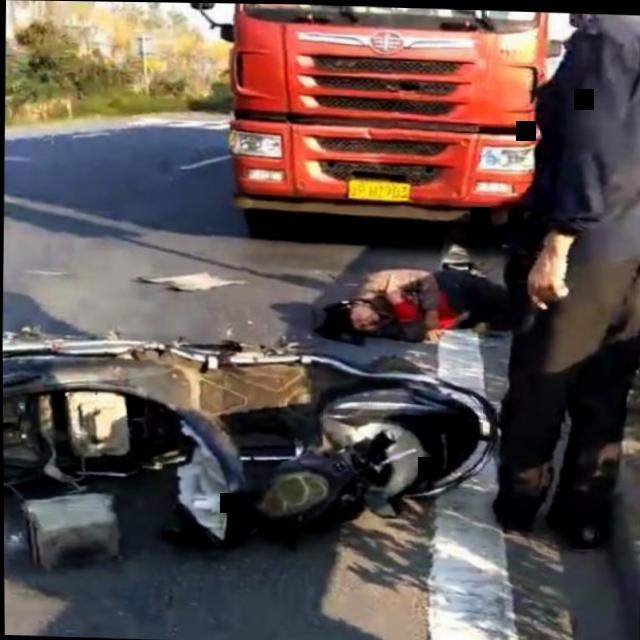Fall-Detected: (306, 243, 514, 350)
